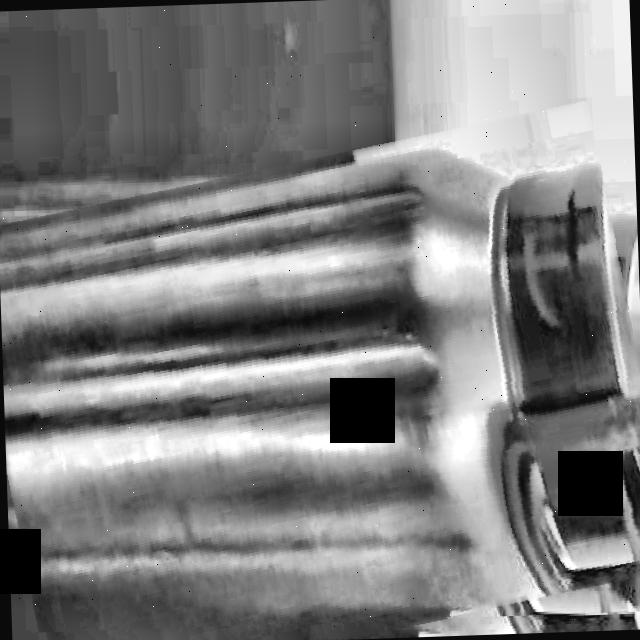bottle: (0, 148, 640, 618)
